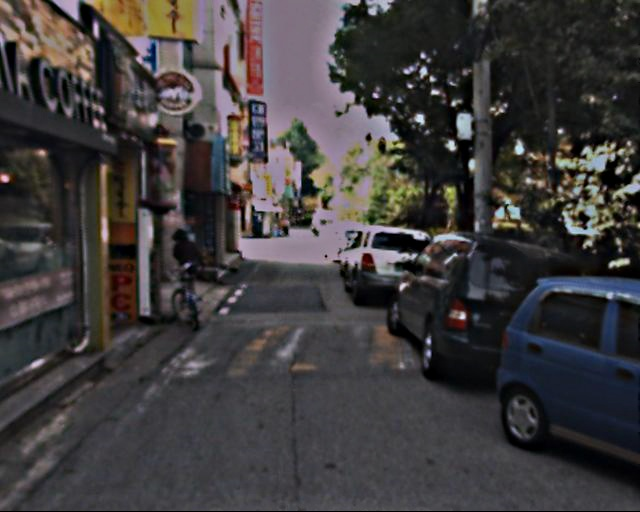person: (163, 224, 204, 310)
